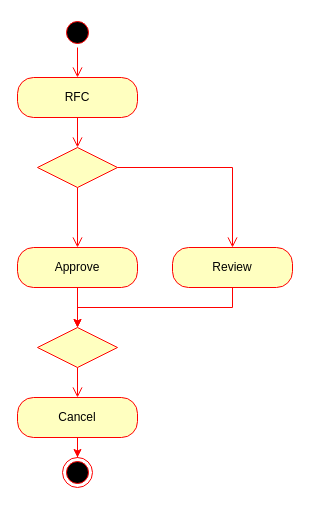
Some shapes in this 310 by 505 pixel diagram are drawn without their labels. The shapes that lost their labels are listed below. From the top down, each one's centre as x and y in pixels, then its label:
pixel 77 167: meeting?
pixel 77 347: changes?
